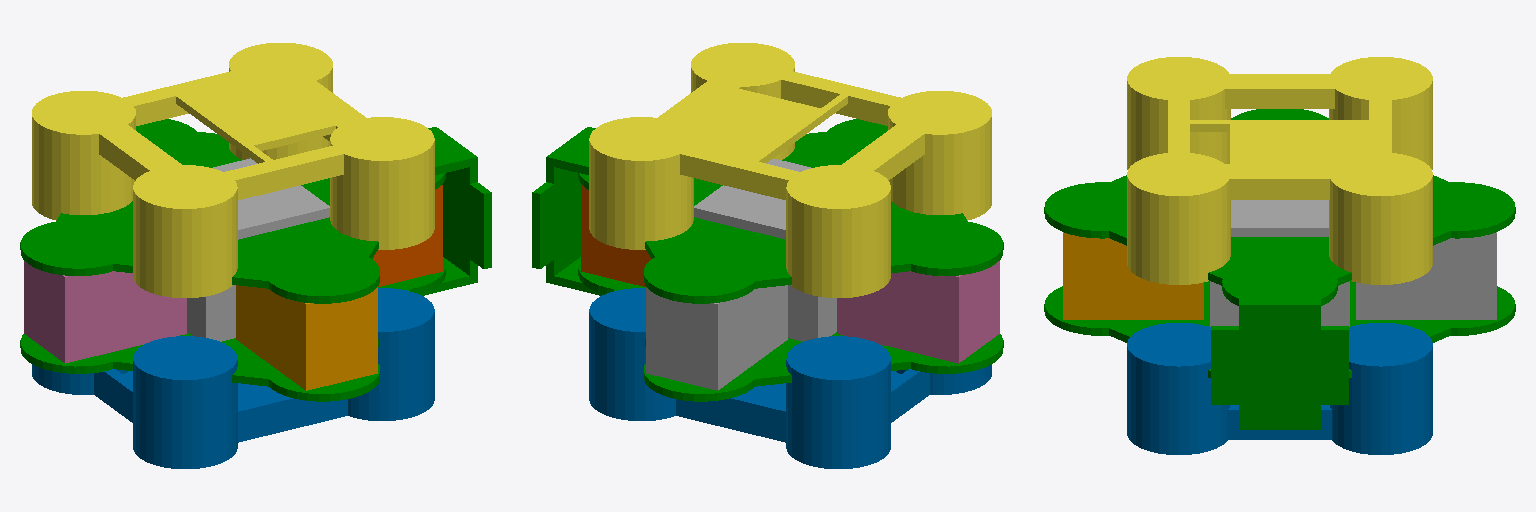
The robot description file, URDF, robot "qutee_robot":
<?xml version="1.0"?>
<robot name="qutee_robot">

    <!-- 
        axes information-
                        positive / negative
        x-axis(red)  :  forwards / backwards 
        y-axis(green):  left     / right 
        z-axis(blue) :  up       / down
        (from the robots point of view)
        colours are axes as seen in rviz


        dimensions are in meters
    -->

    <material name="grey">
        <color rgba="0.7 0.7 0.7 1"/>
    </material>

    <material name="green">
        <color rgba="0 0.6 0 1"/>
    </material>

    <material name="black">
        <color rgba="0 0 0"/>
    </material>

    <material name="white">
        <color rgba="1 1 1 1"/>
    </material>

    <!-- <link name="world_link" />
    
    <joint name="world_base_footprint_joint" type="fixed">
        <parent link="world_link"/>
        <child link="base_footprint_link"/>
        <origin xyz="0 0 0" rpy="0 0 0"/>
    </joint>

    <link name="base_footprint_link" /> -->
        
    <!-- <joint name="base_joint" type="fixed">
        <parent link="base_footprint_link"/>
        <child link="base_link"/>
        <origin xyz="0 0 0" rpy="0 0 0"/>
    </joint> -->


    <!-- represents the battery box as seen in the assembly stl (refer to fusion360) -->
    <link name="base_link">
        <visual>
            <geometry>
                <box size="0.035 0.034 0.03"/>
            </geometry>
            <origin xyz="0 0 0" rpy="0 0 0"/>
            <material name="grey"/>
        </visual>
    </link>


    <!-- body bottom (lower base) ////////////////////////////////////////////////////////////////////////////////// -->
    <joint name="body_bt_sq_joint" type="fixed">
        <parent link="base_link"/>
        <child link="body_bottom_sq_link"/>
        <origin xyz="0 0 -0.0145" rpy="0 0 0"/>
    </joint>

    <!-- top of body bottom is 0.031 down from top of battery box -->
    <!-- overall dimensions of bottom base is 0.114 x 0.114 x 0.002, but corners are constructed from cylinders -->
    <link name="body_bottom_sq_link">

        <!-- square center -->
        <visual>
            <geometry>
                <box size="0.078 0.078 0.002"/>
            </geometry>
            <origin xyz="0 0 0" rpy="0 0 0.7854"/>
            <material name="green"/>
        </visual>

        <!-- front corner -->
        <visual>
            <geometry>
                <cylinder radius="0.014" length="0.002"/>
            </geometry>
            <origin xyz="0.043 0 0" rpy="0 0 0"/>
            <material name="green"/>
        </visual>

        <!-- rear corner -->
        <visual>
            <geometry>
                <cylinder radius="0.014" length="0.002"/>
            </geometry>
            <origin xyz="-0.043 0 0" rpy="0 0 0"/>
            <material name="green"/>
        </visual>

        <!-- left corner -->
        <visual>
            <geometry>
                <cylinder radius="0.014" length="0.002"/>
            </geometry>
            <origin xyz="0 0.043 0" rpy="0 0 0"/>
            <material name="green"/>
        </visual>

        <!-- right corner -->
        <visual>
            <geometry>
                <cylinder radius="0.014" length="0.002"/>
            </geometry>
            <origin xyz="0 -0.043 0" rpy="0 0 0"/>
            <material name="green"/>
        </visual>
    </link>


    <!-- body base (top base) ////////////////////////////////////////////////////////////////////////////////// -->
    <joint name="body_base_sq_joint" type="fixed">
        <parent link="base_link"/>
        <child link="body_base_sq_link"/>
        <origin xyz="0 0 0.0115" rpy="0 0 0"/>
    </joint>

    <!-- bottom of body base is 0.028 up from bottom of battery box -->
    <!-- overall dimensions of bottom base is 0.114 x 0.114 x 0.002, but corners are constructed from cylinders -->
    <link name="body_base_sq_link">

        <!-- square center -->
        <visual>
            <geometry>
                <box size="0.078 0.078 0.002"/>
            </geometry>
            <origin xyz="0 0 0" rpy="0 0 0.7854"/>
            <material name="green"/>
        </visual>

        <!-- front corner -->
        <visual>
            <geometry>
                <cylinder radius="0.014" length="0.002"/>
            </geometry>
            <origin xyz="0.043 0 0" rpy="0 0 0"/>
            <material name="green"/>
        </visual>

        <!-- rear corner -->
        <visual>
            <geometry>
                <cylinder radius="0.014" length="0.002"/>
            </geometry>
            <origin xyz="-0.043 0 0" rpy="0 0 0"/>
            <material name="green"/>
        </visual>

        <!-- left corner -->
        <visual>
            <geometry>
                <cylinder radius="0.014" length="0.002"/>
            </geometry>
            <origin xyz="0 0.043 0" rpy="0 0 0"/>
            <material name="green"/>
        </visual>

        <!-- right corner -->
        <visual>
            <geometry>
                <cylinder radius="0.014" length="0.002"/>
            </geometry>
            <origin xyz="0 -0.043 0" rpy="0 0 0"/>
            <material name="green"/>
        </visual>
    </link>


    <!-- top case ////////////////////////////////////////////////////////////////////////////////// -->
    <joint name="body_base_sq_top_case_joint" type="fixed">
        <parent link="body_base_sq_link"/>
        <child link="top_case_link"/>
        <origin xyz="0 0 0.01055" rpy="0 0 0"/>
    </joint>

    <link name="top_case_link">
        <!-- horizontal components -->
        <visual>
            <geometry>
                <box size="0.0085 0.0544 0.0055"/>
            </geometry>
            <origin xyz="-0.0259 0 0.0091" rpy="0 0 0"/>
            <material name="black"/>        
        </visual>
        <visual>
            <geometry>
                <box size="0.0021 0.0544 0.002"/>
            </geometry>
            <origin xyz="-0.0024 0 0.01085" rpy="0 0 0"/>
            <material name="black"/>        
        </visual>
        <visual>
            <geometry>
                <box size="0.0336 0.0394 0.002"/>
            </geometry>
            <origin xyz="0.01335 0.0075 0.01085" rpy="0 0 0"/>
            <material name="black"/>        
        </visual>
        <visual>
            <geometry>
                <box size="0.0086 0.0544 0.0055"/>
            </geometry>
            <origin xyz="0.02585 0 0.0091" rpy="0 0 0"/>
            <material name="black"/>        
        </visual>
        <visual>
            <geometry>
                <box size="0.0603 0.0056 0.0055"/>
            </geometry>
            <origin xyz="0 0.0244 0.0091" rpy="0 0 0"/>
            <material name="black"/>        
        </visual>
        <visual>
            <geometry>
                <box size="0.0603 0.0055 0.0055"/>
            </geometry>
            <origin xyz="0 -0.02445 0.0091" rpy="0 0 0"/>
            <material name="black"/>        
        </visual>

        <!-- corners -->
        <visual>
            <geometry>
                <cylinder radius="0.0126" length="0.0237"/>
            </geometry>
            <origin xyz="0.0274 0.02445 0" rpy="0 0 0"/>
            <material name="black"/>        
        </visual>
        <visual>
            <geometry>
                <cylinder radius="0.0126" length="0.0237"/>
            </geometry>
            <origin xyz="-0.0274 0.02445 0" rpy="0 0 0"/>
            <material name="black"/>        
        </visual>
        <visual>
            <geometry>
                <cylinder radius="0.0126" length="0.0237"/>
            </geometry>
            <origin xyz="0.0274 -0.02445 0" rpy="0 0 0"/>
            <material name="black"/>        
        </visual>
        <visual>
            <geometry>
                <cylinder radius="0.0126" length="0.0237"/>
            </geometry>
            <origin xyz="-0.0274 -0.02445 0" rpy="0 0 0"/>
            <material name="black"/>        
        </visual>
    </link>


    <!-- bottom case ////////////////////////////////////////////////////////////////////////////////// -->
    <joint name="body_bottom_sq_bottom_case_joint" type="fixed">
        <parent link="body_bottom_sq_link"/>
        <child link="bottom_case_link"/>
        <origin xyz="0 0 -0.0089" rpy="0 0 0"/>
    </joint>

    <link name="bottom_case_link">
        <!-- horizontal components -->
        <visual>
            <geometry>
                <box size="0.0630 0.057 0.0035"/>
            </geometry>
            <origin xyz="0 0 -0.0101" rpy="0 0 0"/>
            <material name="black"/>
        </visual>
        <visual>
            <geometry>
                <box size="0.003 0.057 0.0082"/>
            </geometry>
            <origin xyz="0.03 0 -0.00775" rpy="0 0 0"/>
            <material name="black"/>
        </visual>
        <visual>
            <geometry>
                <box size="0.003 0.057 0.0082"/>
            </geometry>
            <origin xyz="-0.03 0 -0.00775" rpy="0 0 0"/>
            <material name="black"/>
        </visual>
        <visual>
            <geometry>
                <box size="0.0630 0.003 0.0082"/>
            </geometry>
            <origin xyz="0 0.027 -0.00775" rpy="0 0 0"/>
            <material name="black"/>
        </visual>
        <visual>
            <geometry>
                <box size="0.0630 0.003 0.0082"/>
            </geometry>
            <origin xyz="0 -0.027 -0.00775" rpy="0 0 0"/>
            <material name="black"/>
        </visual>

        <!-- corners -->
        <visual>
            <geometry>
                <cylinder radius="0.0126" length="0.0237"/>
            </geometry>
            <origin xyz="0.0274 0.02445 0" rpy="0 0 0"/>
            <material name="black"/>        
        </visual>
        <visual>
            <geometry>
                <cylinder radius="0.0126" length="0.0237"/>
            </geometry>
            <origin xyz="-0.0274 0.02445 0" rpy="0 0 0"/>
            <material name="black"/>        
        </visual>
        <visual>
            <geometry>
                <cylinder radius="0.0126" length="0.0237"/>
            </geometry>
            <origin xyz="0.0274 -0.02445 0" rpy="0 0 0"/>
            <material name="black"/>        
        </visual>
        <visual>
            <geometry>
                <cylinder radius="0.0126" length="0.0237"/>
            </geometry>
            <origin xyz="-0.0274 -0.02445 0" rpy="0 0 0"/>
            <material name="black"/>        
        </visual>
    </link>


    <!-- motors ////////////////////////////////////////////////////////////////////////////////// -->
    <joint name="body_base_sq_front_motor_joint" type="fixed">
        <parent link="body_base_sq_link"/>
        <child link="front_motor_link"/>
        <origin xyz="0.0355 0 -0.013" rpy="0 0 0"/>
    </joint>

    <link name="front_motor_link">
        <visual>
            <geometry>
                <box size="0.034 0.02 0.023"/>
            </geometry>
            <origin xyz="0 0 0" rpy="0 0 0"/>
            <material name="black"/>
        </visual>
    </link>

    <joint name="body_base_sq_rear_motor_joint" type="fixed">
        <parent link="body_base_sq_link"/>
        <child link="rear_motor_link"/>
        <origin xyz="-0.0355 0 -0.013" rpy="0 0 0"/>
    </joint>

    <link name="rear_motor_link">
        <visual>
            <geometry>
                <box size="0.034 0.02 0.023"/>
            </geometry>
            <origin xyz="0 0 0" rpy="0 0 0"/>
            <material name="black"/>
        </visual>
    </link>

    <joint name="body_base_sq_left_motor_joint" type="fixed">
        <parent link="body_base_sq_link"/>
        <child link="left_motor_link"/>
        <origin xyz="0 0.0355 -0.013" rpy="0 0 0"/>
    </joint>

    <link name="left_motor_link">
        <visual>
            <geometry>
                <box size="0.02 0.034 0.023"/>
            </geometry>
            <origin xyz="0 0 0" rpy="0 0 0"/>
            <material name="black"/>
        </visual>
    </link>

    <joint name="body_base_sq_right_motor_joint" type="fixed">
        <parent link="body_base_sq_link"/>
        <child link="right_motor_link"/>
        <origin xyz="0 -0.0355 -0.013" rpy="0 0 0"/>
    </joint>

    <link name="right_motor_link">
        <visual>
            <geometry>
                <box size="0.02 0.034 0.023"/>
            </geometry>
            <origin xyz="0 0 0" rpy="0 0 0"/>
            <material name="black"/>
        </visual>
    </link>


    <!-- doubleU connectors ////////////////////////////////////////////////////////////////////////////////// -->
    <!-- center of joint rotation is set to be center of the body_base (top base) vertically 
         and center of the corner section horizontally as if centered around where the horn would be,
         the rest of the link is offset from there -->
    <joint name="front_motor_front_doubleu_joint" type="continuous">
        <parent link="front_motor_link"/>
        <child link="front_doubleu_link"/>
        <origin xyz="0.0075 0 0.013" rpy="0 0 0"/>
        <axis xyz="0 0 1"/>
    </joint>

    <!-- doubleu link is 0.0562 x 0.0334 x 0.0334 overall -->
    <link name="front_doubleu_link">
        <!-- horizontal components -->
        <visual>
            <geometry>
                <cylinder radius="0.01" length="0.0022"/>
            </geometry>
            <origin xyz="0 0 0.0026" rpy="0 0 0"/>
            <material name="green"/>    
        </visual>
        <visual>
            <geometry>
                <box size="0.0181 0.02 0.0022"/>
            </geometry>
            <origin xyz="0.00905 0 0.0026" rpy="0 0 0"/>
            <material name="green"/>
        </visual>
        <visual>
            <geometry>
                <cylinder radius="0.01" length="0.0022"/>
            </geometry>
            <origin xyz="0 0 -0.0286" rpy="0 0 0"/>
            <material name="green"/>    
        </visual>
        <visual>
            <geometry>
                <box size="0.0181 0.02 0.0022"/>
            </geometry>
            <origin xyz="0.00905 0 -0.0286" rpy="0 0 0"/>
            <material name="green"/>
        </visual>

        <!-- central component -->
        <visual>
            <geometry>
                <box size="0.0022 0.02 0.0334"/>
            </geometry>
            <origin xyz="0.0181 0 -0.013" rpy="0 0 0"/>
            <material name="green"/>
        </visual>
        <visual>
            <geometry>
                <box size="0.0022 0.0334 0.02"/>
            </geometry>
            <origin xyz="0.0181 0 -0.013" rpy="0 0 0"/>
            <material name="green"/>
        </visual>

        <!-- vertical  -->
        
    </link>
</robot>

--- What the picture shows (computed from the rendered views, not written in the file) ---
The picture shows the robot from 3 angles, left to right: view 1: azimuth 30°, elevation 25°; view 2: azimuth 150°, elevation 25°; view 3: azimuth 270°, elevation 25°; orthographic projection.
Robot: qutee_robot — 10 links, 9 joints (1 continuous, 8 fixed); root link base_link; default pose: all joints at 0.
Links seen in each view (by area): view 1: top_case_link, bottom_case_link, body_base_sq_link, rear_motor_link, right_motor_link, front_doubleu_link, body_bottom_sq_link, base_link, front_motor_link; view 2: top_case_link, bottom_case_link, body_base_sq_link, rear_motor_link, left_motor_link, front_doubleu_link, body_bottom_sq_link, base_link, front_motor_link; view 3: top_case_link, bottom_case_link, front_doubleu_link, body_base_sq_link, left_motor_link, right_motor_link, base_link, body_bottom_sq_link.
Link boxes in pixels (x1,y1,x2,y2): top_case_link: (32, 43, 434, 297); bottom_case_link: (32, 288, 434, 468); body_base_sq_link: (20, 119, 445, 303); rear_motor_link: (24, 261, 186, 363); right_motor_link: (236, 285, 377, 390); front_doubleu_link: (420, 127, 491, 295); body_bottom_sq_link: (20, 260, 445, 401); base_link: (187, 158, 329, 341); front_motor_link: (373, 185, 442, 286); top_case_link: (589, 43, 991, 297); bottom_case_link: (589, 288, 991, 468); body_base_sq_link: (578, 119, 1003, 303); rear_motor_link: (837, 261, 999, 363); left_motor_link: (646, 285, 787, 390); front_doubleu_link: (532, 127, 603, 295); body_bottom_sq_link: (578, 260, 1003, 401); base_link: (694, 158, 836, 341); front_motor_link: (581, 185, 650, 286); top_case_link: (1127, 57, 1432, 284); bottom_case_link: (1127, 323, 1432, 454); front_doubleu_link: (1211, 254, 1348, 429); body_base_sq_link: (1044, 109, 1515, 305); left_motor_link: (1356, 232, 1496, 319); right_motor_link: (1063, 232, 1203, 319); base_link: (1210, 200, 1349, 326); body_bottom_sq_link: (1044, 281, 1515, 377).
Size in the robot's own frame: 0.1192 by 0.114 by 0.0692 metres.
Geometry: primitives only (box / cylinder / sphere), no mesh files.